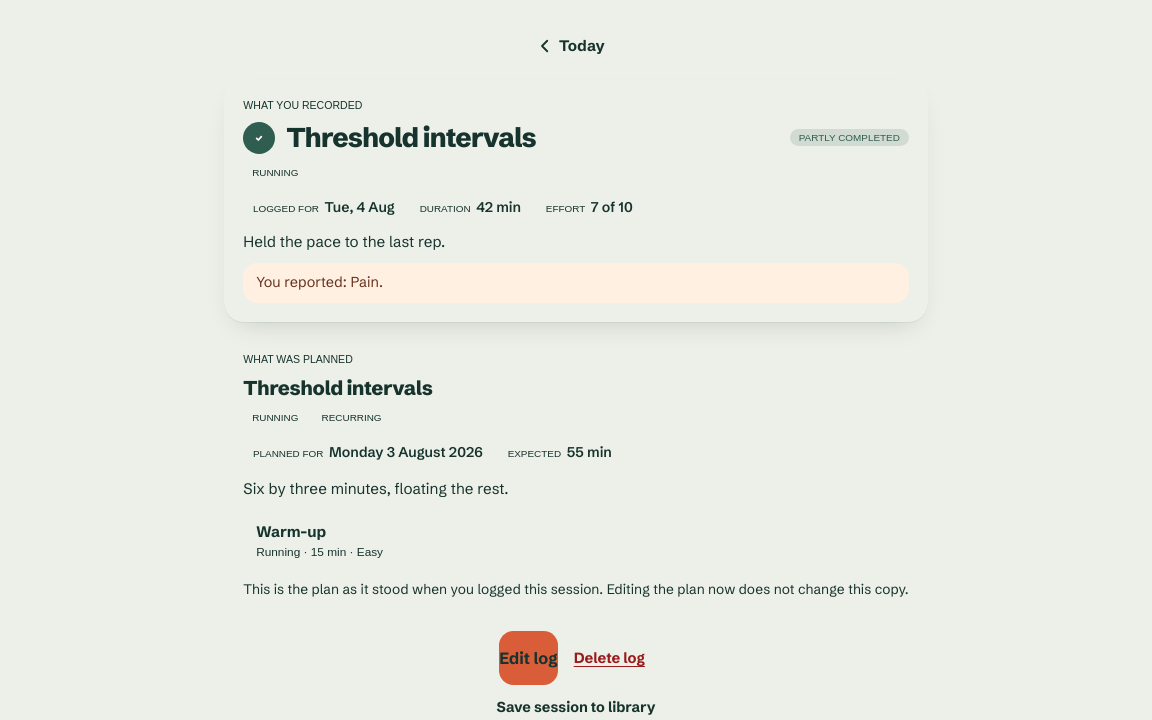
Test case: one completion › goes back to the day on Today it was opened from, and deletes to there
Step 1. Click the button "Delete log" → (609, 658), box [566,636,653,680]
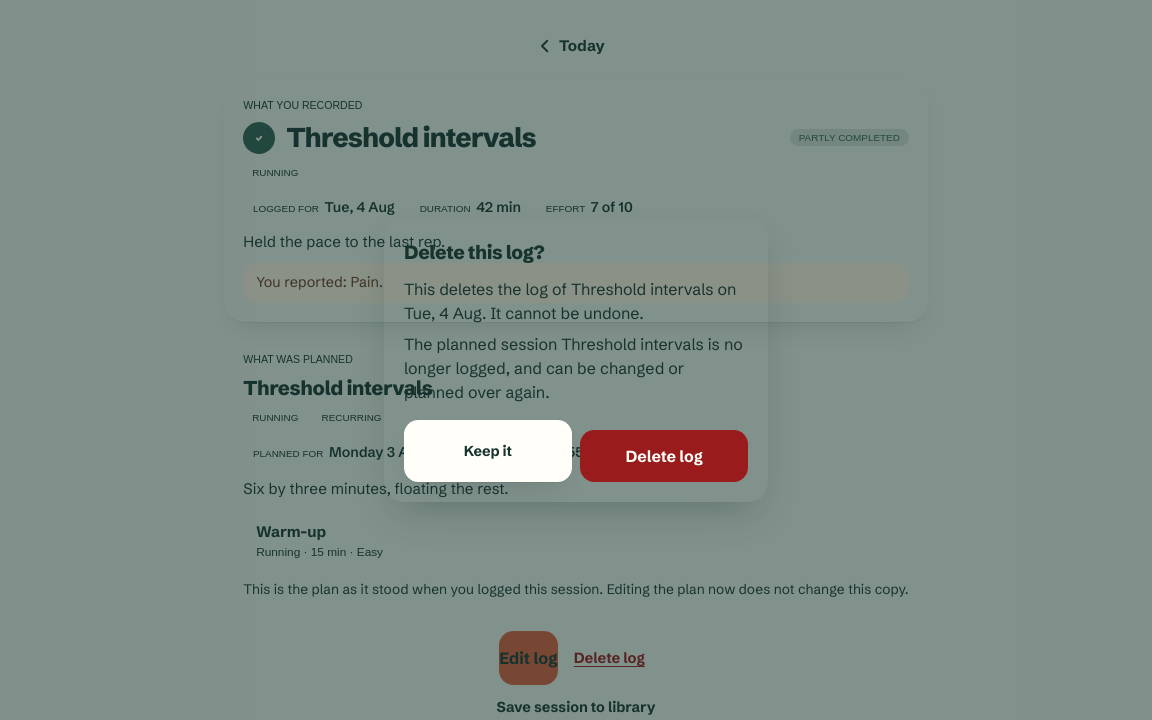
Check: the form named "leaveTo" holds "/home/today?date=2026-08-12", box [404,414,748,482]
